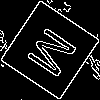M: (25, 25, 86, 85)
